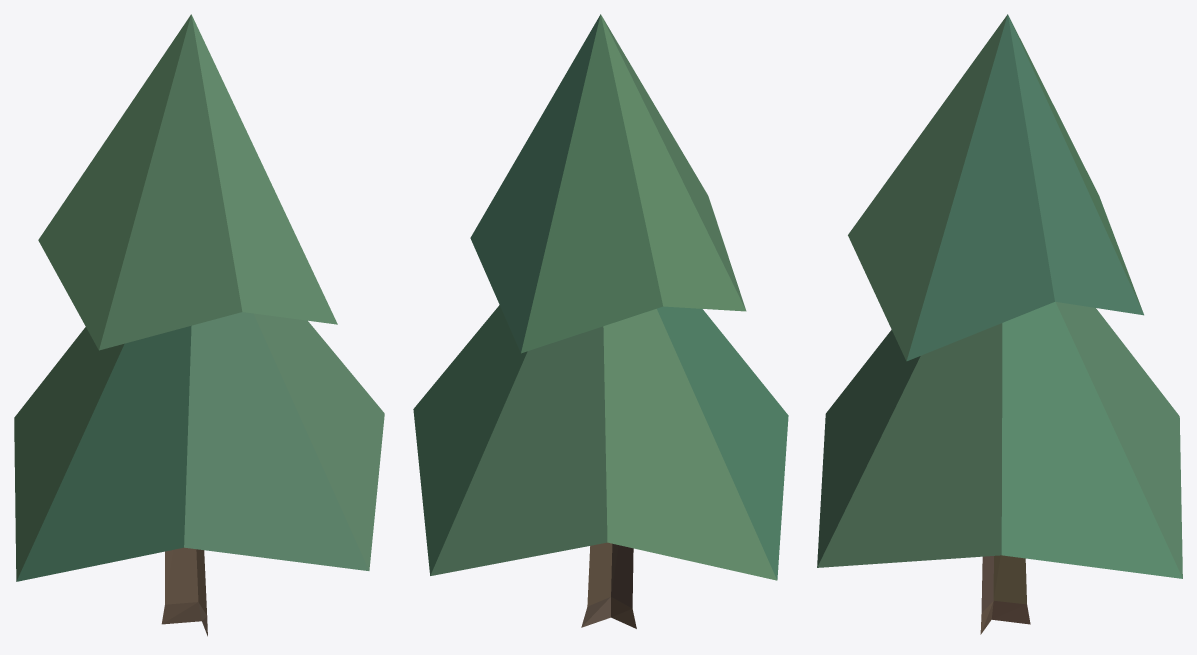
File: Tree_Pine_04_Far.glb
The picture shows the model from 3 angles, left to right: view 1: azimuth 30°, elevation 25°; view 2: azimuth 150°, elevation 25°; view 3: azimuth 270°, elevation 25°; orthographic projection.
Parts seen in each view (by area): view 1: Tree_Pine_04_Far; view 2: Tree_Pine_04_Far; view 3: Tree_Pine_04_Far.
Boxes of the visible parts, x1,y1,x2,y2 form: Tree_Pine_04_Far: [14, 14, 384, 636]; Tree_Pine_04_Far: [413, 14, 788, 628]; Tree_Pine_04_Far: [817, 14, 1182, 634].
Bounding box in the file's own units: 5.48 × 8.79 × 4.7.
